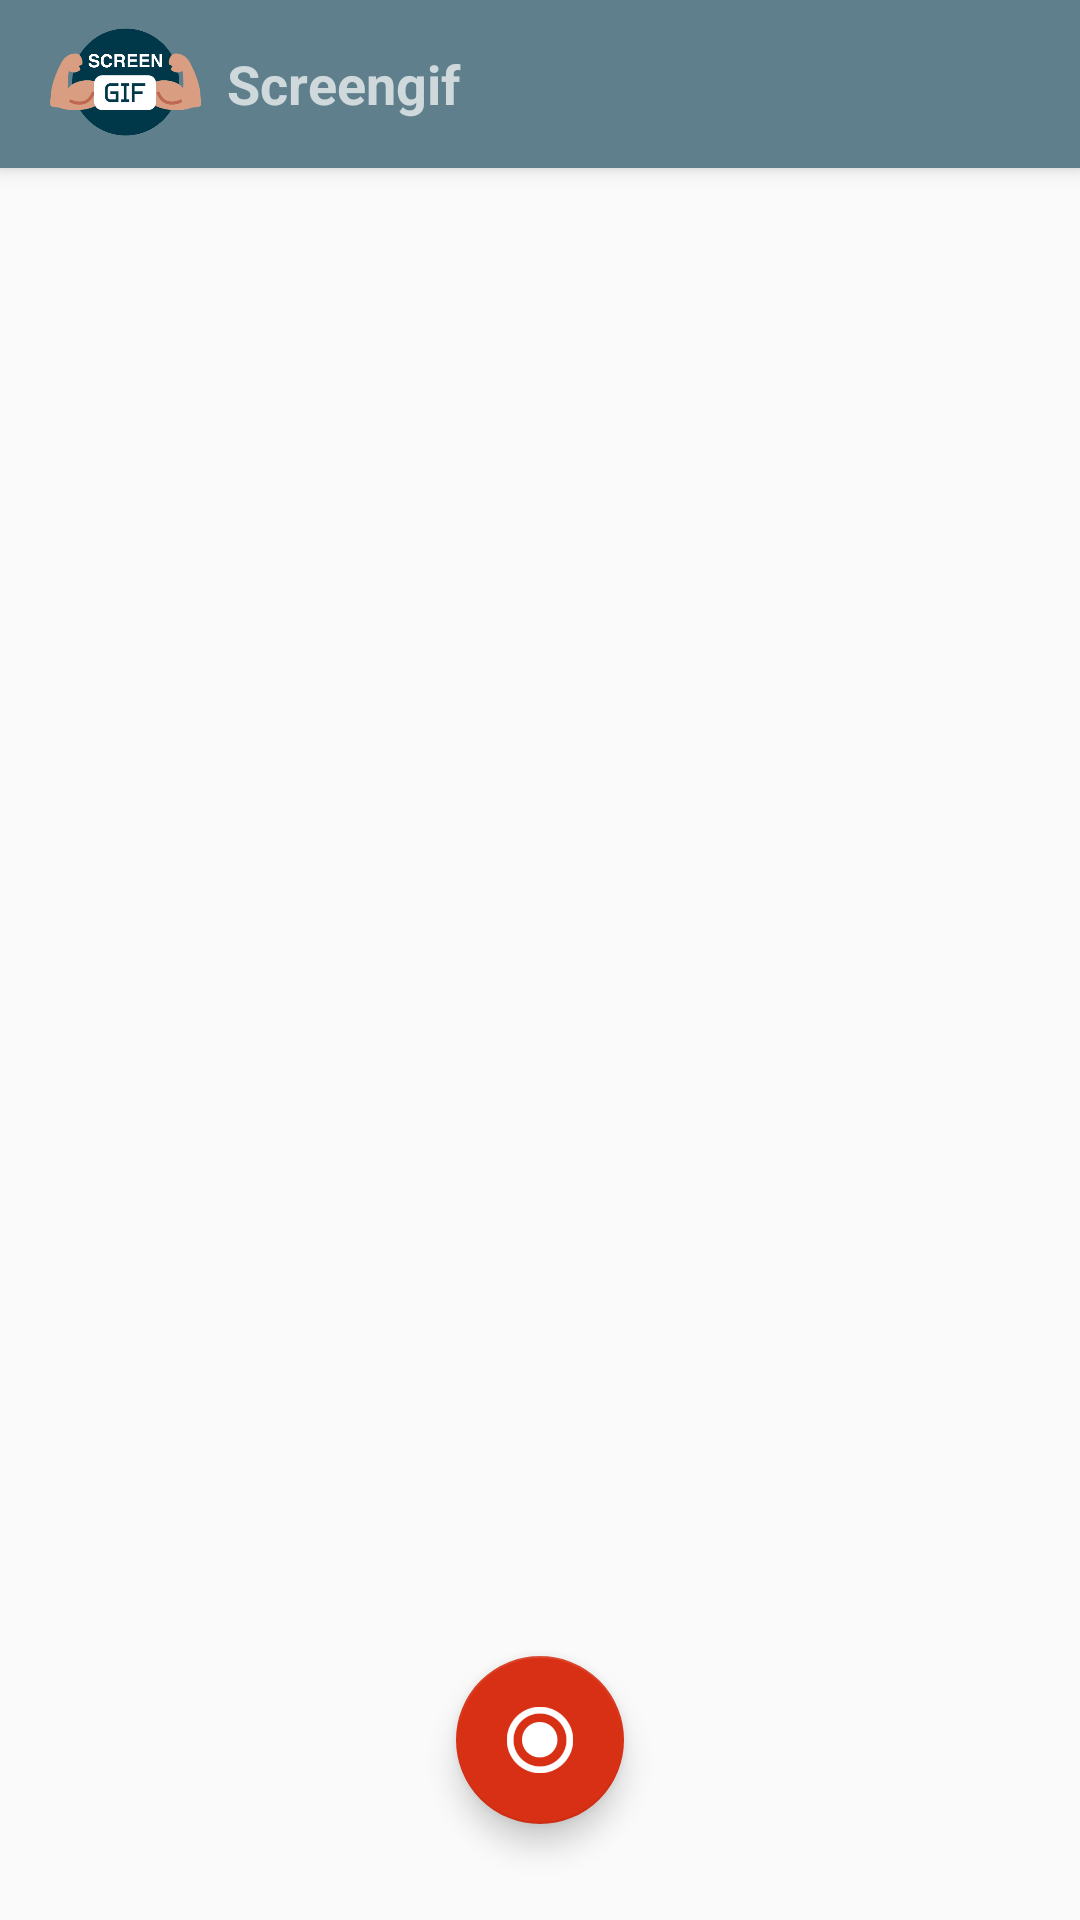

Icon bounding boxes for this 1080px×1920px phone screenshot, format (x1, y1, x2, y2):
record: (456, 1656, 624, 1824)
